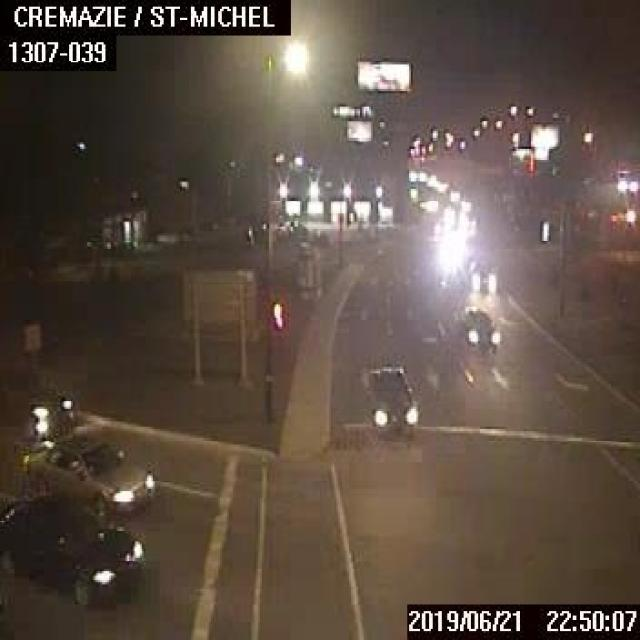vehicle: (0, 489, 142, 607), (20, 426, 154, 518), (359, 360, 418, 434), (28, 368, 74, 434), (460, 304, 500, 350), (466, 258, 498, 289)
